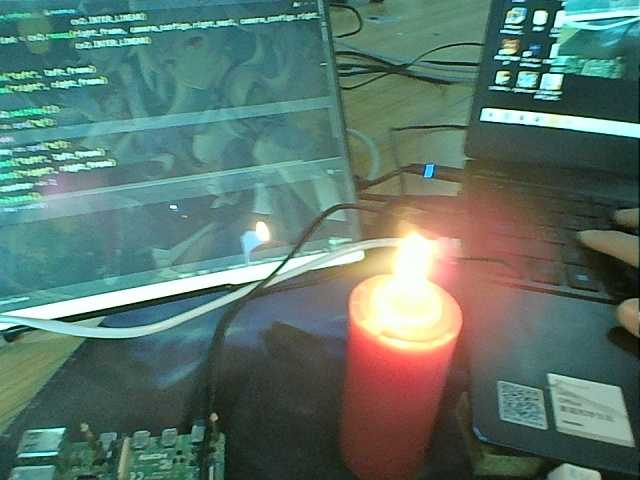candle: (341, 317, 448, 479)
fire: (388, 229, 436, 323), (244, 218, 275, 245)
